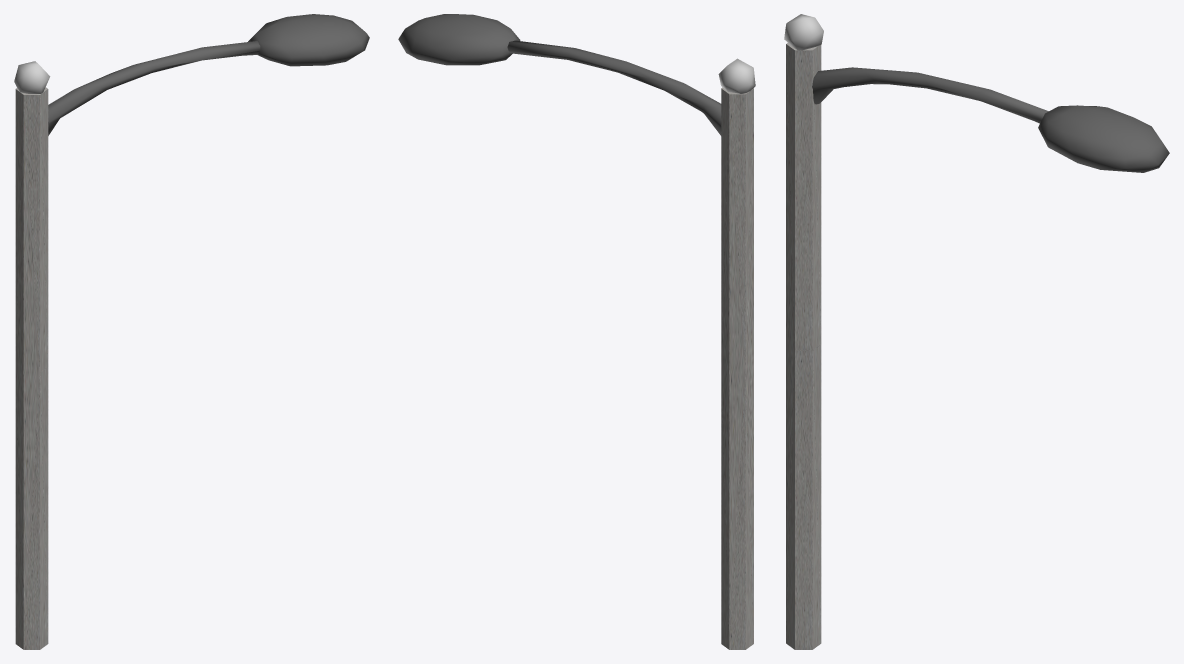
The model's file is StreetLamp.obj.
The picture shows the model from 3 angles, left to right: view 1: azimuth 30°, elevation 25°; view 2: azimuth 150°, elevation 25°; view 3: azimuth 330°, elevation 25°; orthographic projection. The views are drawn at different scales.
Parts seen in each view (by area): view 1: Pole_Cylinder, LightPart_Sphere, Torus.001, Sphere_Sphere.001; view 2: Pole_Cylinder, LightPart_Sphere, Torus.001, Sphere_Sphere.001; view 3: Pole_Cylinder, LightPart_Sphere, Torus.001, Sphere_Sphere.001.
Part boxes in pixels (<box>): Pole_Cylinder: <box>15,87,48,649</box>; LightPart_Sphere: <box>248,14,369,66</box>; Torus.001: <box>48,41,260,135</box>; Sphere_Sphere.001: <box>14,61,50,93</box>; Pole_Cylinder: <box>721,87,753,649</box>; LightPart_Sphere: <box>398,14,520,65</box>; Torus.001: <box>507,40,721,135</box>; Sphere_Sphere.001: <box>718,58,755,93</box>; Pole_Cylinder: <box>786,43,821,649</box>; LightPart_Sphere: <box>1038,105,1169,172</box>; Torus.001: <box>812,67,1048,123</box>; Sphere_Sphere.001: <box>784,14,823,50</box>.
Size of the model in its own units: 9.13 by 14.54 by 1.99.
